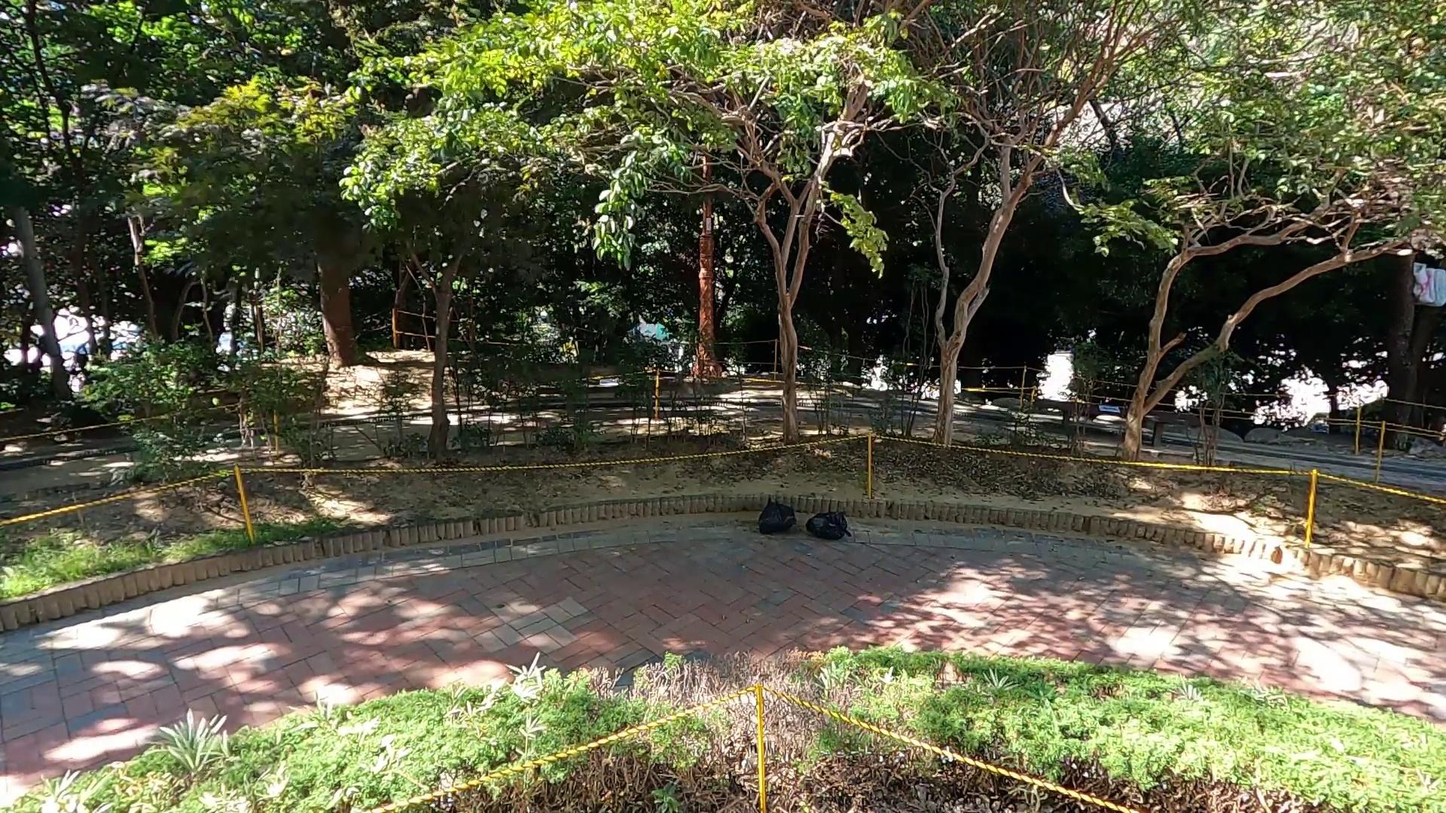trash: (759, 495, 796, 534), (805, 509, 851, 540)
